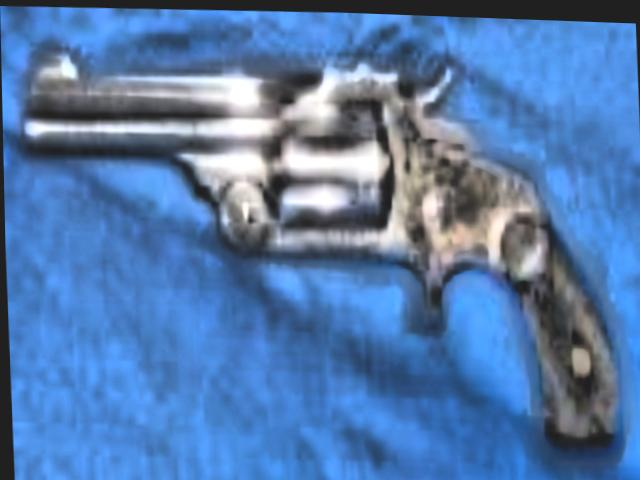pistol: (13, 27, 615, 467)
